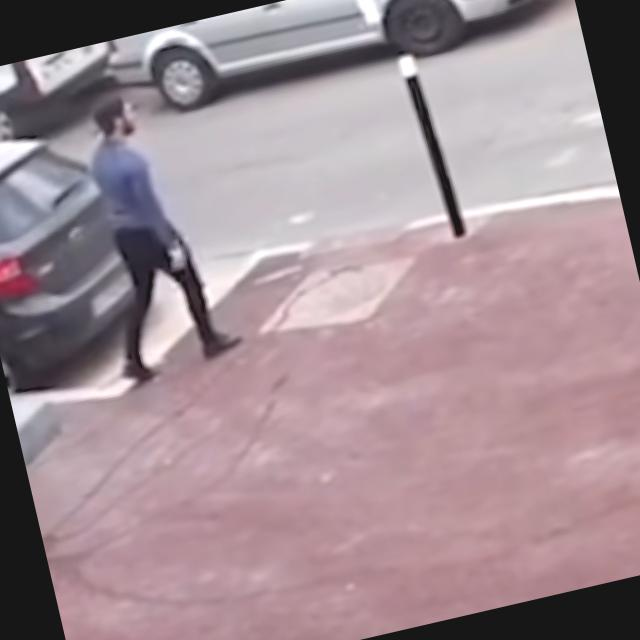person: (59, 74, 247, 388)
